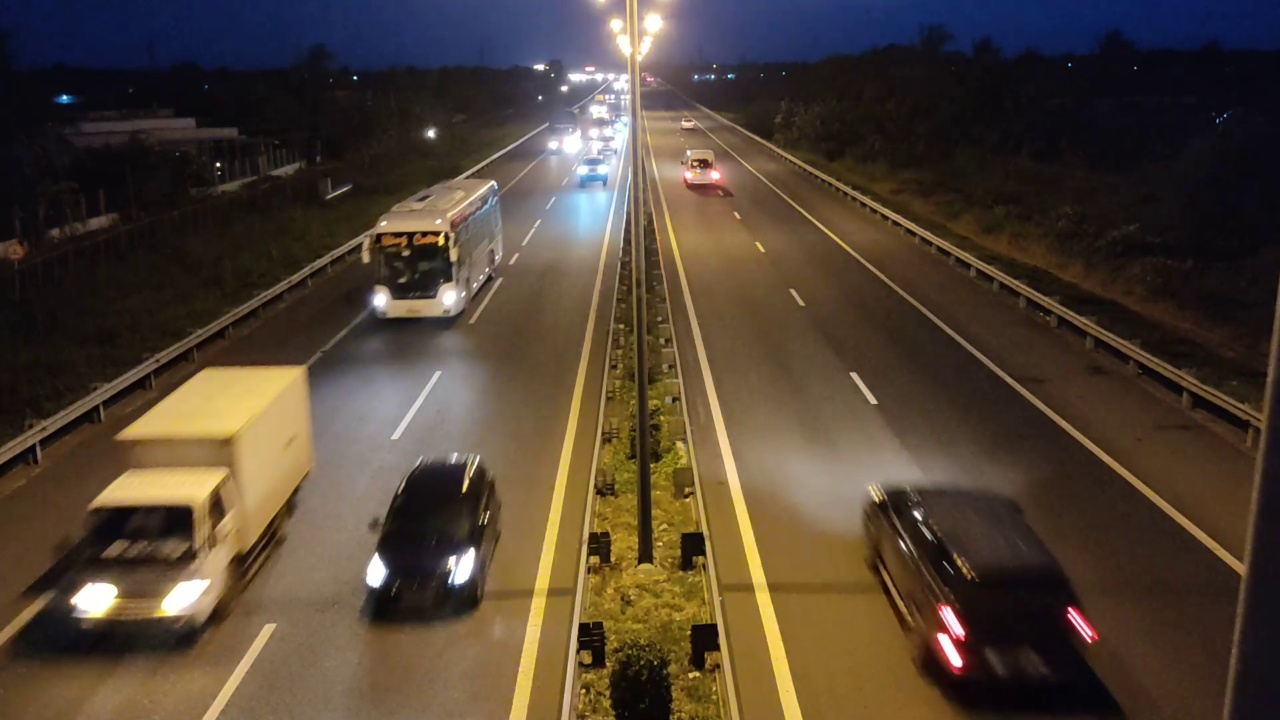bus: (365, 175, 504, 321)
car: (860, 481, 1107, 707), (360, 451, 503, 619), (573, 157, 611, 189)
truck: (49, 363, 317, 653)
